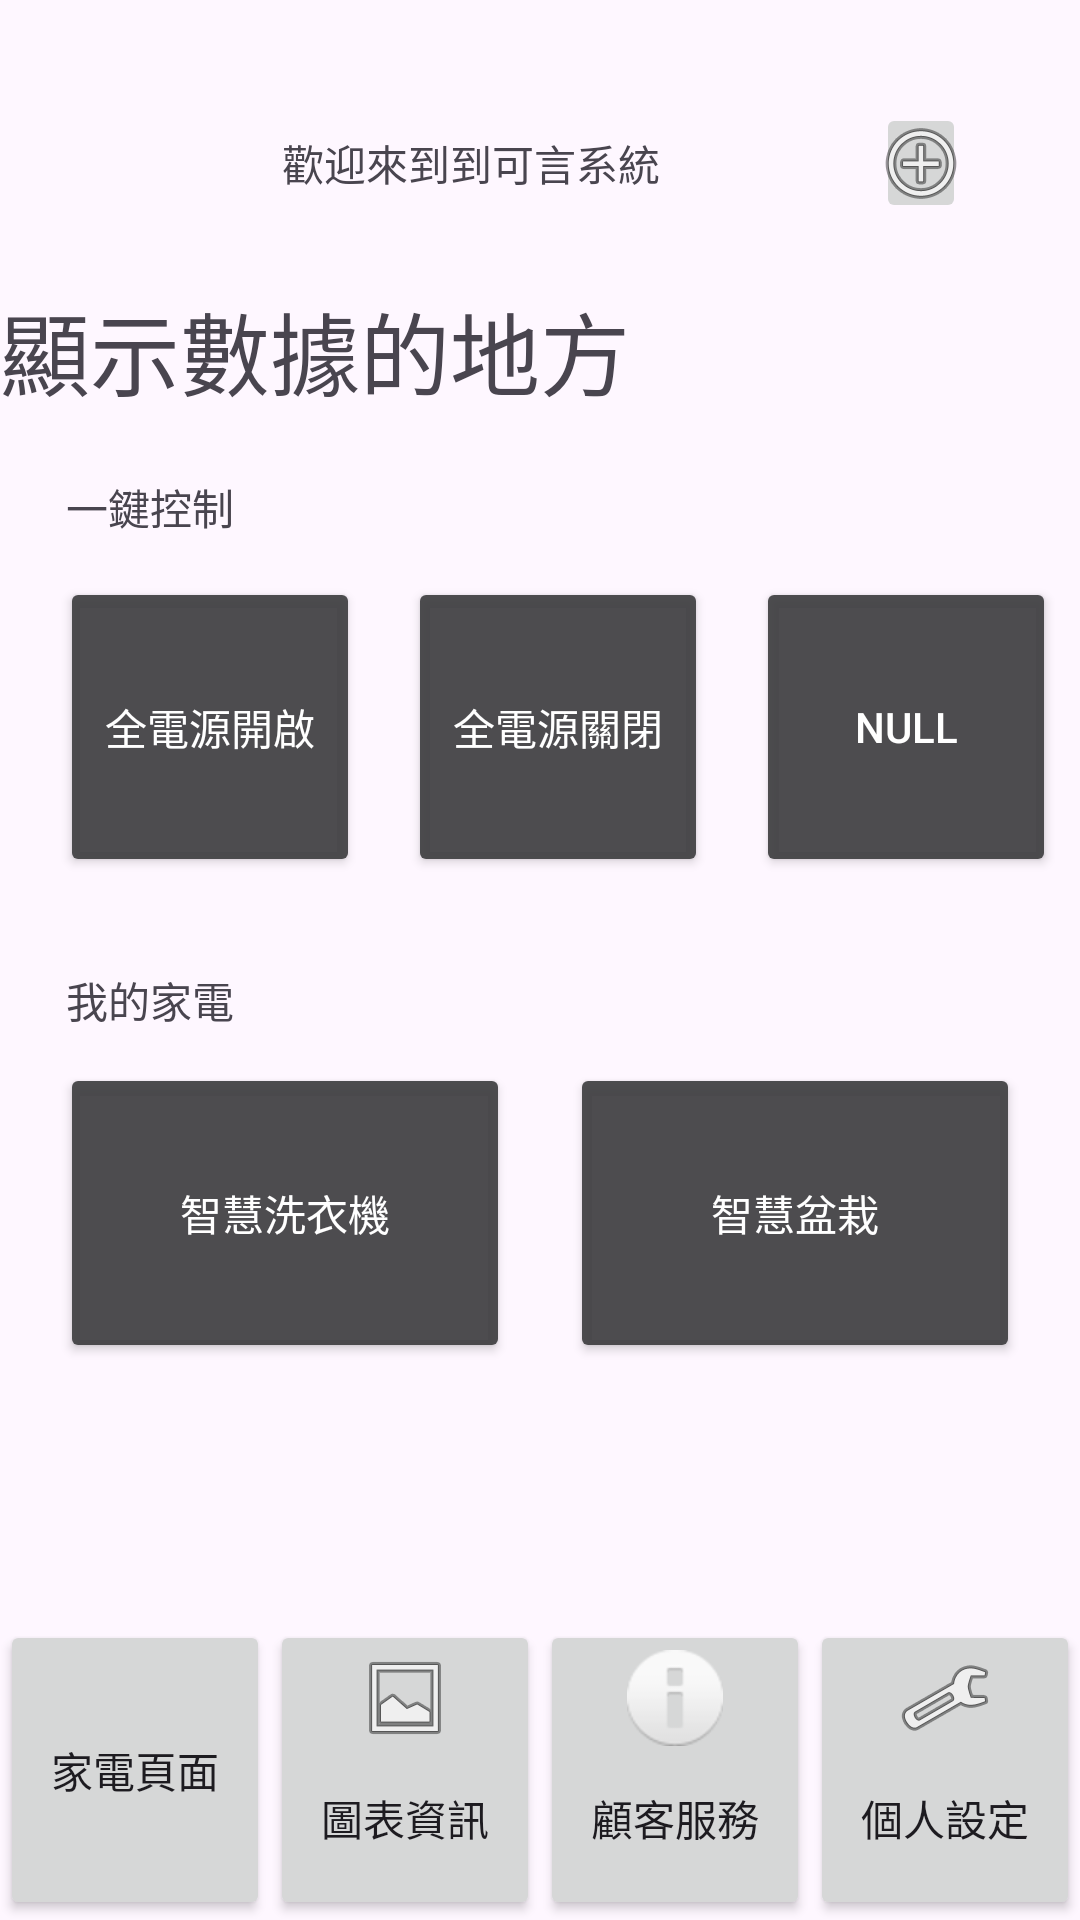

Named icons in this screenshot (1080px x 1920px) and their bounding boxes, (x1, y1, x2, y2):
add: (885, 121, 957, 205)
